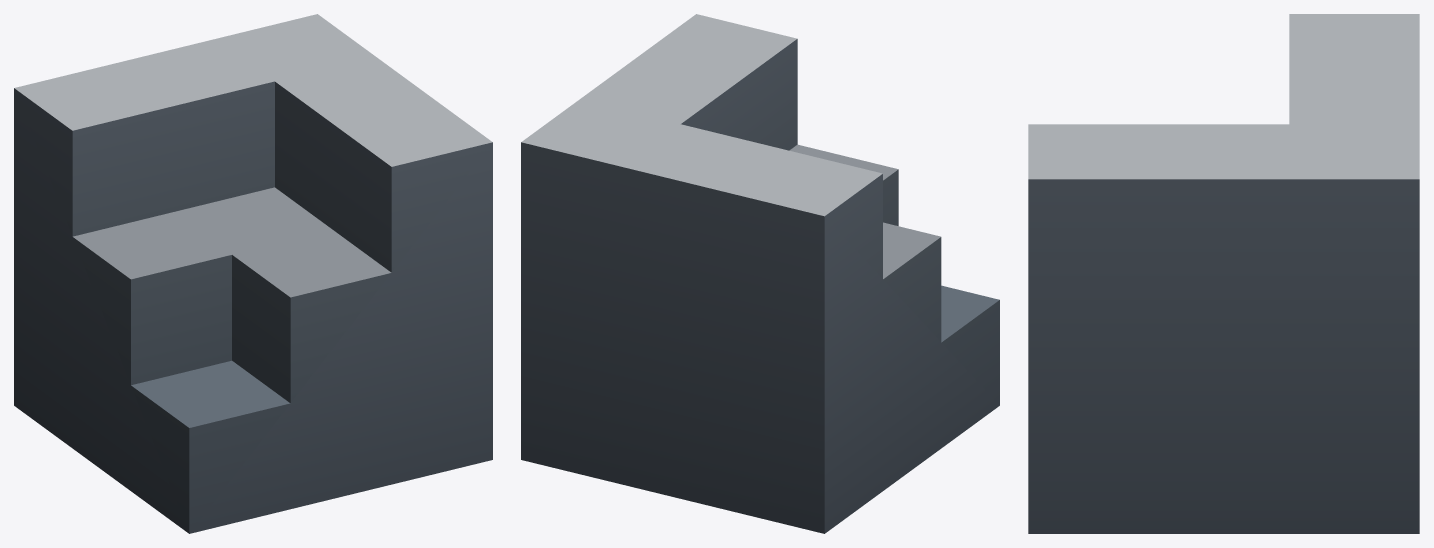
Rendered from stairs-small-corner-inner.glb.
3 renders of one model, left to right at view 1: azimuth 30°, elevation 25°; view 2: azimuth 150°, elevation 25°; view 3: azimuth 270°, elevation 25°, orthographic. The views are drawn at different scales.
Parts seen in each view (by area): view 1: stairs-small-corner-inner; view 2: stairs-small-corner-inner; view 3: stairs-small-corner-inner.
Part boxes in pixels (x1,y1,x2,y2): stairs-small-corner-inner: (14,14,492,533); stairs-small-corner-inner: (521,14,999,533); stairs-small-corner-inner: (1028,14,1419,533).
Size of the model in its own units: 0.3 by 0.3 by 0.3.
